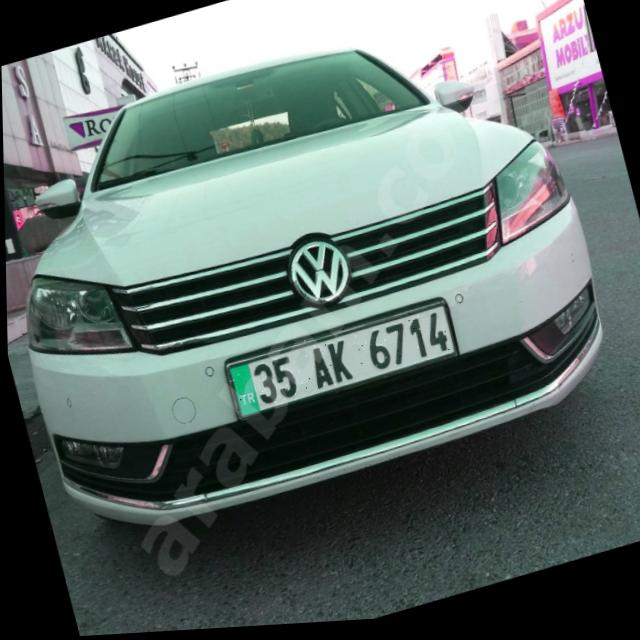license_plate: (220, 304, 457, 423)
